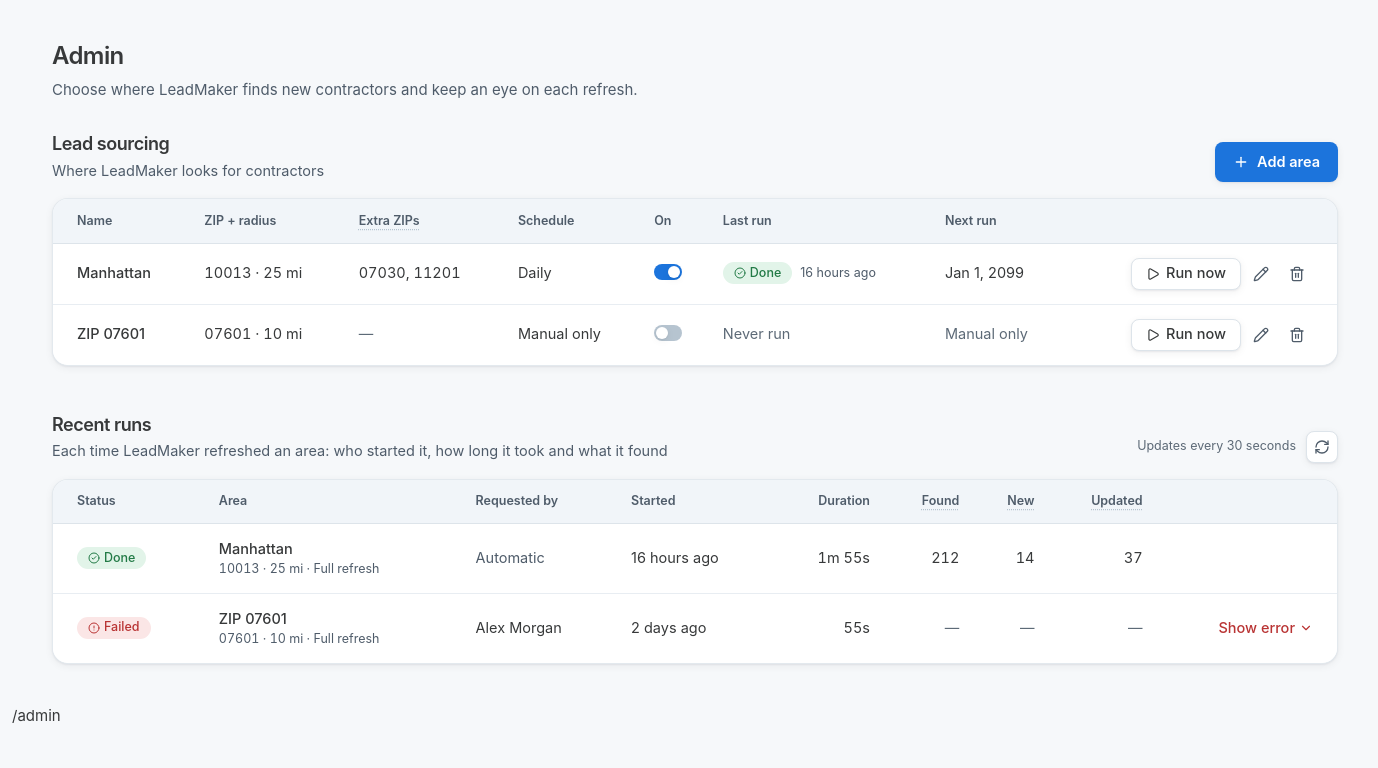
Scenario: AdminPage › lists the areas and the recent runs
Expected: the heading "Lead sourcing" is shown, [52, 133, 169, 154]
Expected: the text "Where LeadMaker looks for contractors" is shown, [52, 160, 324, 182]
Click the button "Show error" at (1266, 628), box [1218, 617, 1313, 640]
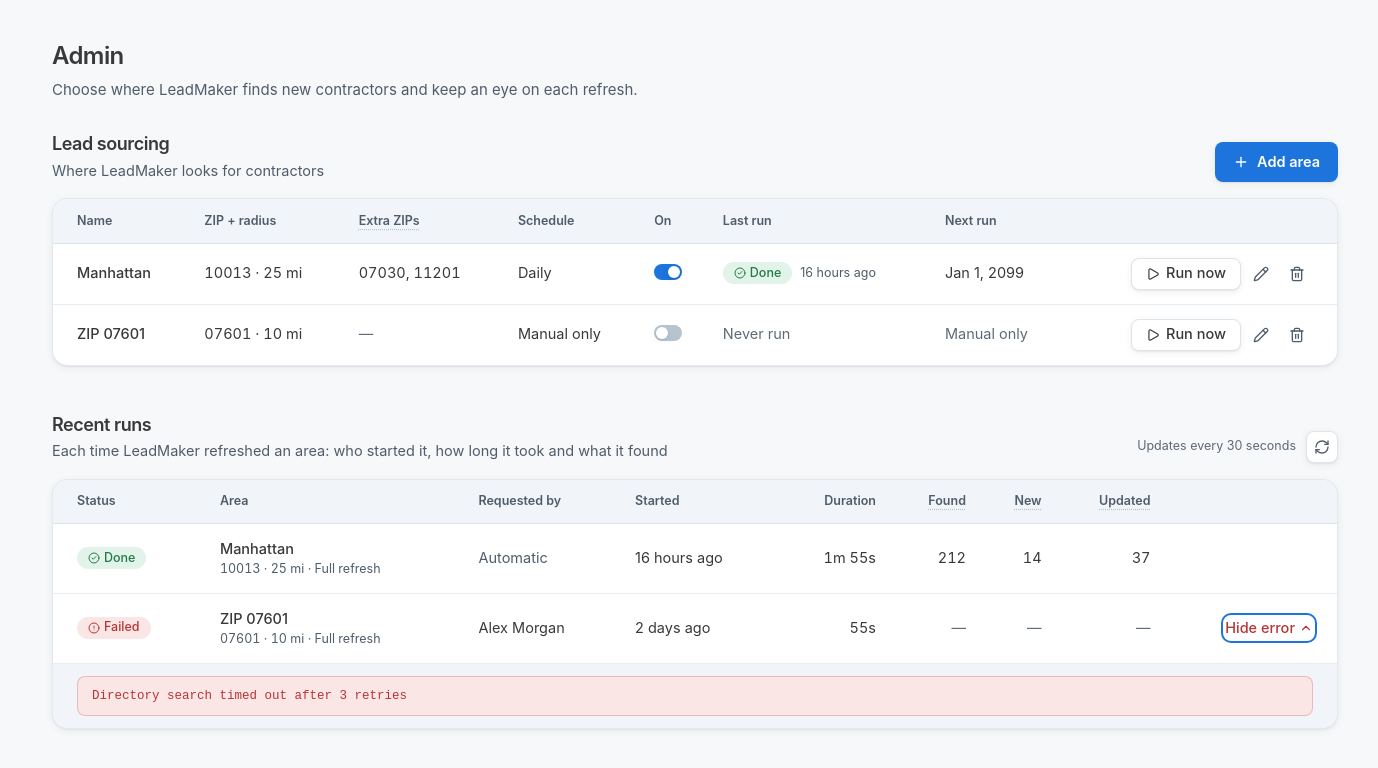
Now the button named "Show error" is expanded, box [1225, 617, 1313, 640]
Now the text "Directory search timed out after 3 retries" is shown, box [77, 676, 1313, 716]
